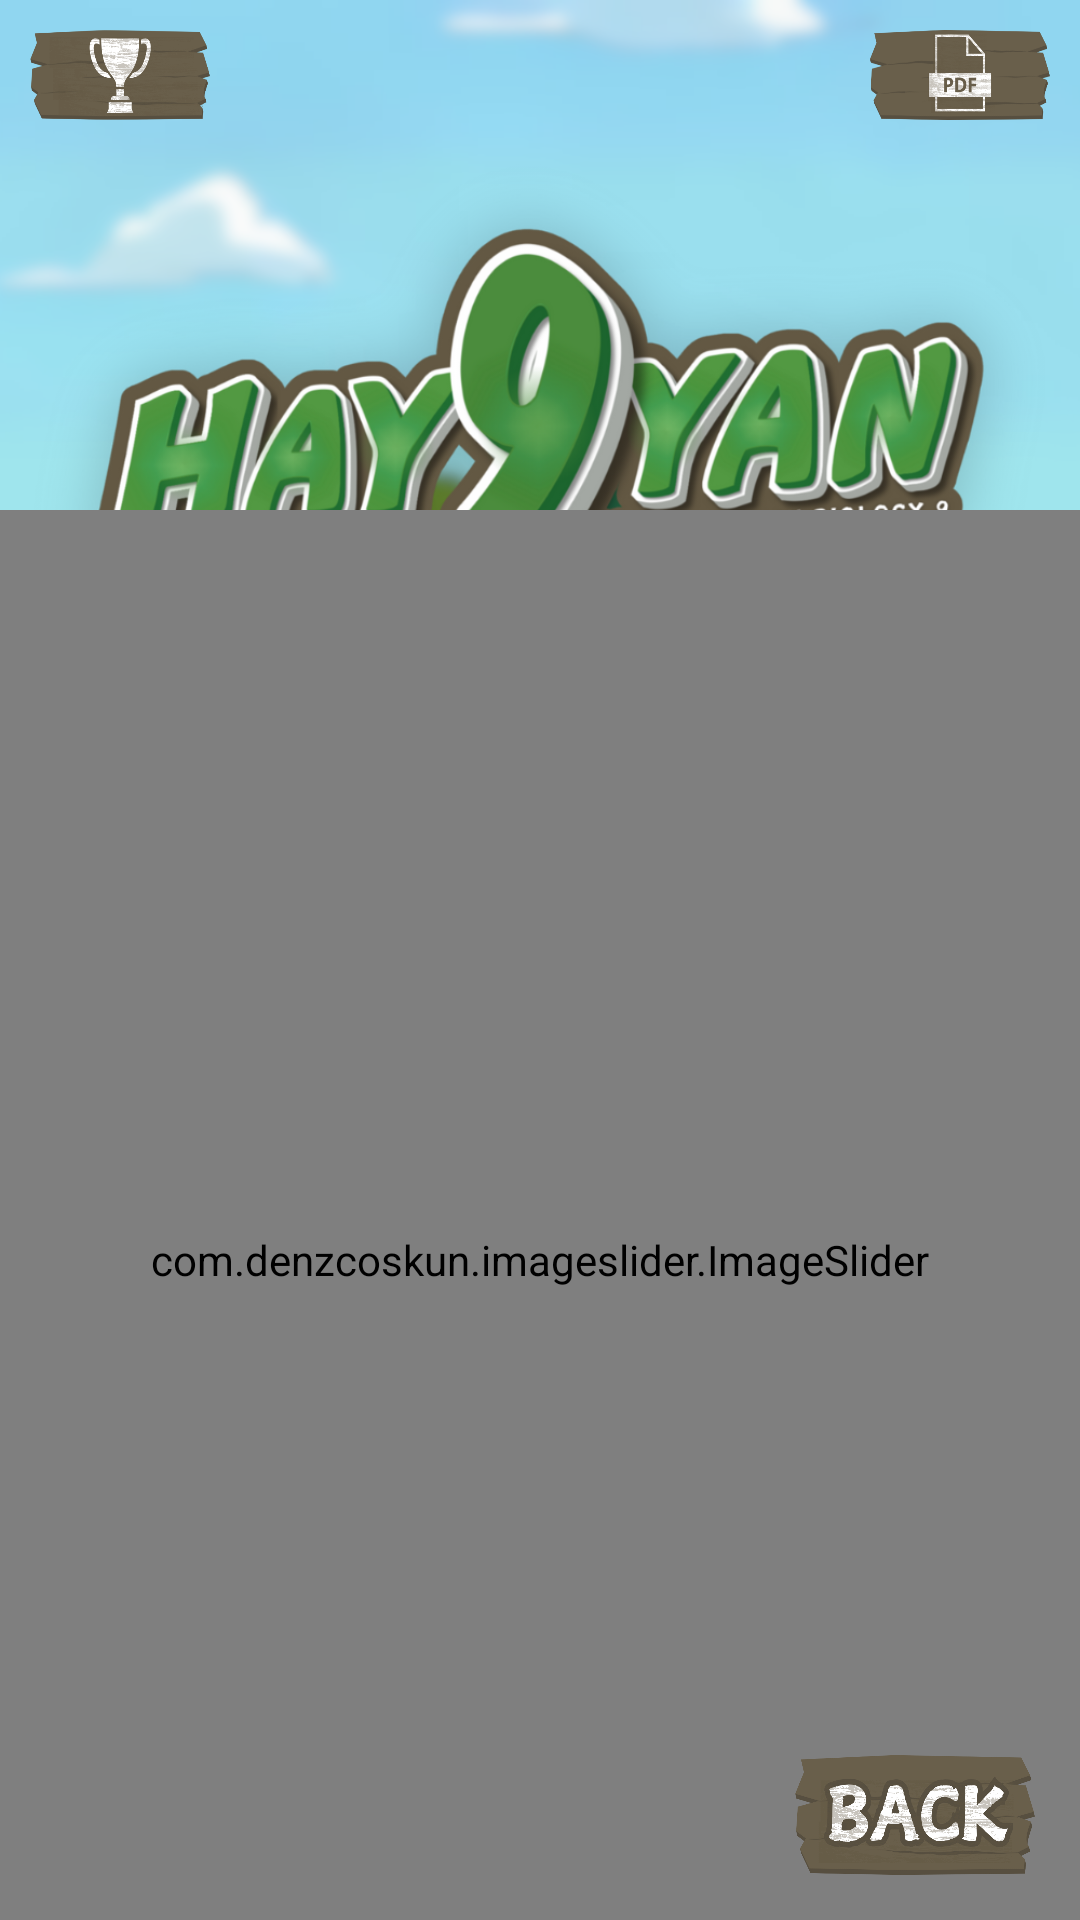

Icon bounding boxes for this 1080w x 1920h phone screenshot, format (x1,y1,x2,y2):
trophy: (30,30,210,120)
